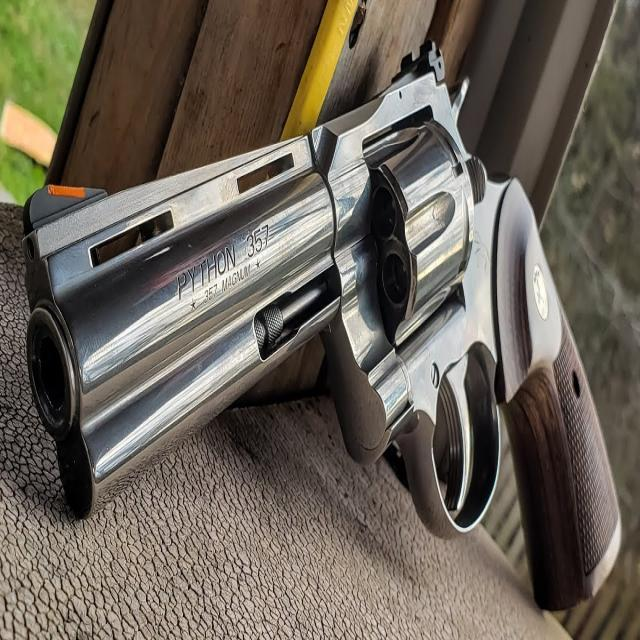handgun: (21, 48, 619, 594)
